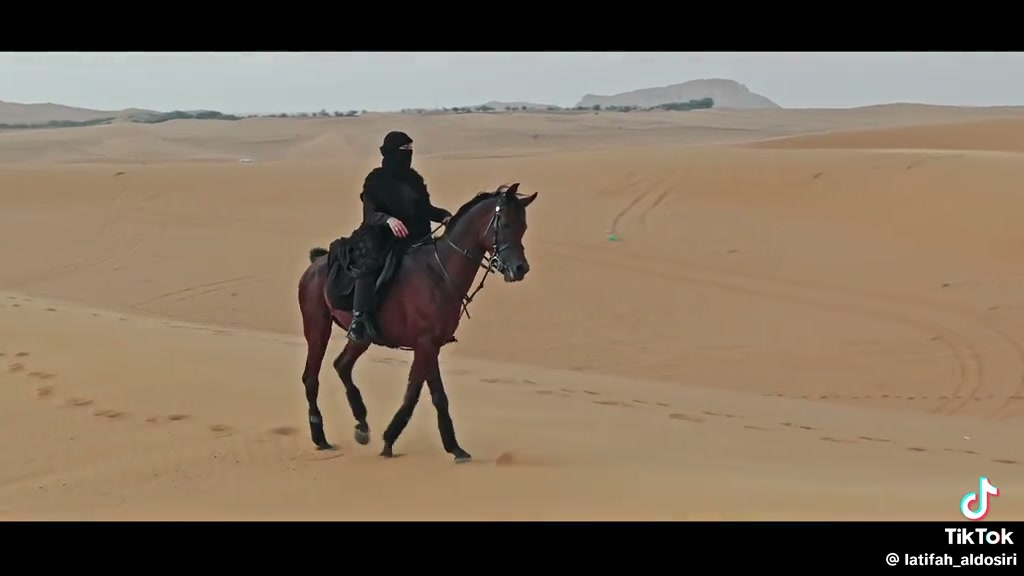animal_foot_print: (145, 413, 191, 423), (667, 412, 705, 422), (93, 408, 127, 419), (701, 411, 744, 418), (269, 426, 299, 436), (207, 424, 234, 435), (778, 422, 815, 430), (591, 400, 632, 407), (480, 377, 519, 384), (819, 436, 856, 443), (66, 397, 93, 406), (26, 371, 55, 379), (36, 386, 53, 398), (7, 362, 25, 373), (857, 436, 890, 442), (990, 458, 1019, 464), (166, 414, 190, 421), (742, 424, 770, 430), (520, 378, 537, 385), (905, 446, 927, 451), (582, 389, 600, 395)
